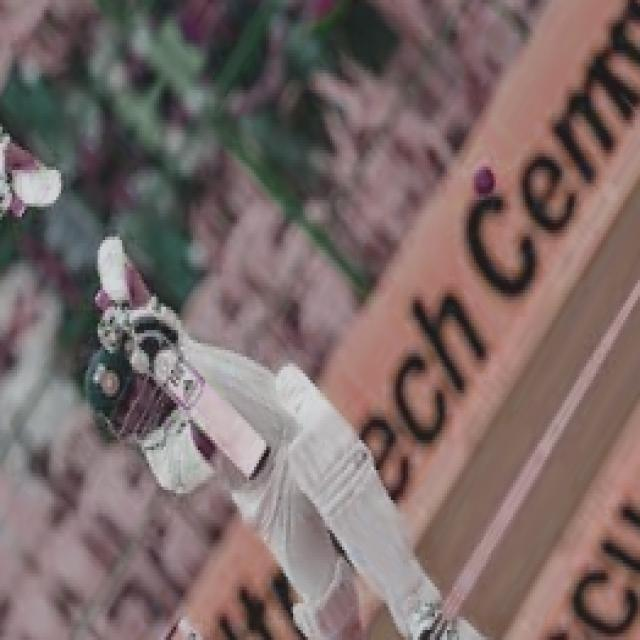bat: (145, 346, 271, 480)
toe: (248, 448, 269, 481)
